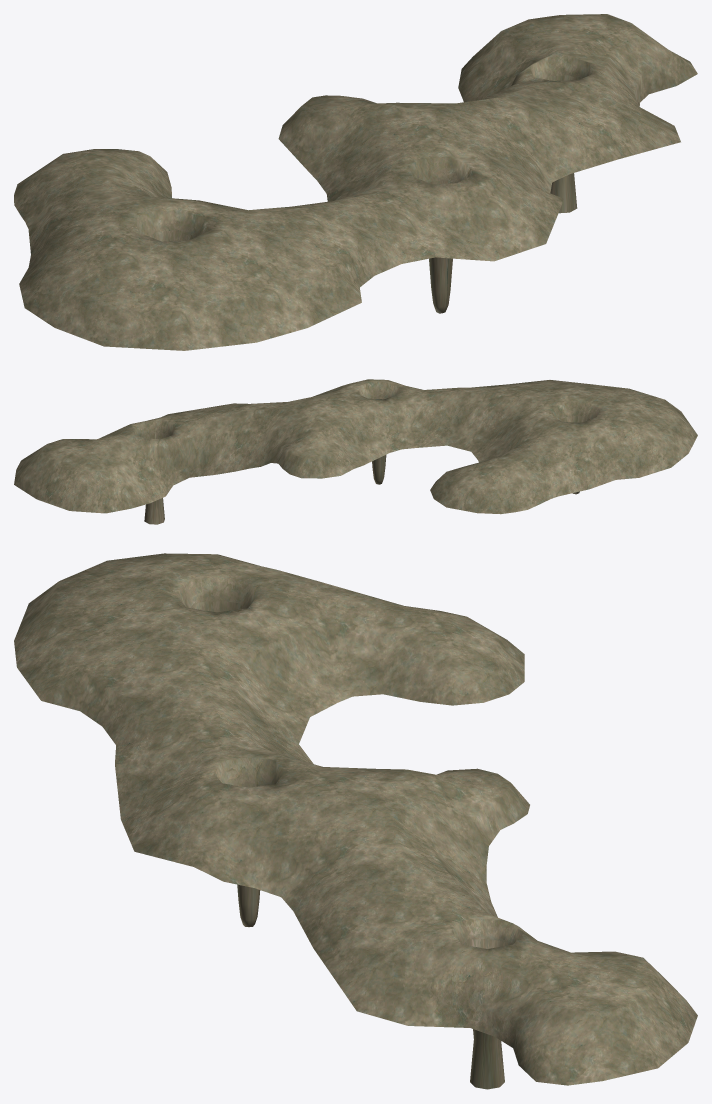
File: OVERHILL_A_01_TREASURE_CAVE_ROOF.fbx
3 renders of one model, top to bottom at view 1: azimuth 30°, elevation 25°; view 2: azimuth 150°, elevation 25°; view 3: azimuth 270°, elevation 25°, orthographic. The views are drawn at different scales.
Visible parts, largest first — view 1: OVERHILL_A_01_TREASURE_CAVE_ROOF; view 2: OVERHILL_A_01_TREASURE_CAVE_ROOF; view 3: OVERHILL_A_01_TREASURE_CAVE_ROOF.
Part boxes in pixels (box(x1,y1,x2,y2)): OVERHILL_A_01_TREASURE_CAVE_ROOF: box(14, 14, 697, 350); OVERHILL_A_01_TREASURE_CAVE_ROOF: box(14, 379, 697, 524); OVERHILL_A_01_TREASURE_CAVE_ROOF: box(14, 553, 697, 1089).
Size of the model in its own units: 356940 by 82783 by 235800.
1 material, 1 textured.
